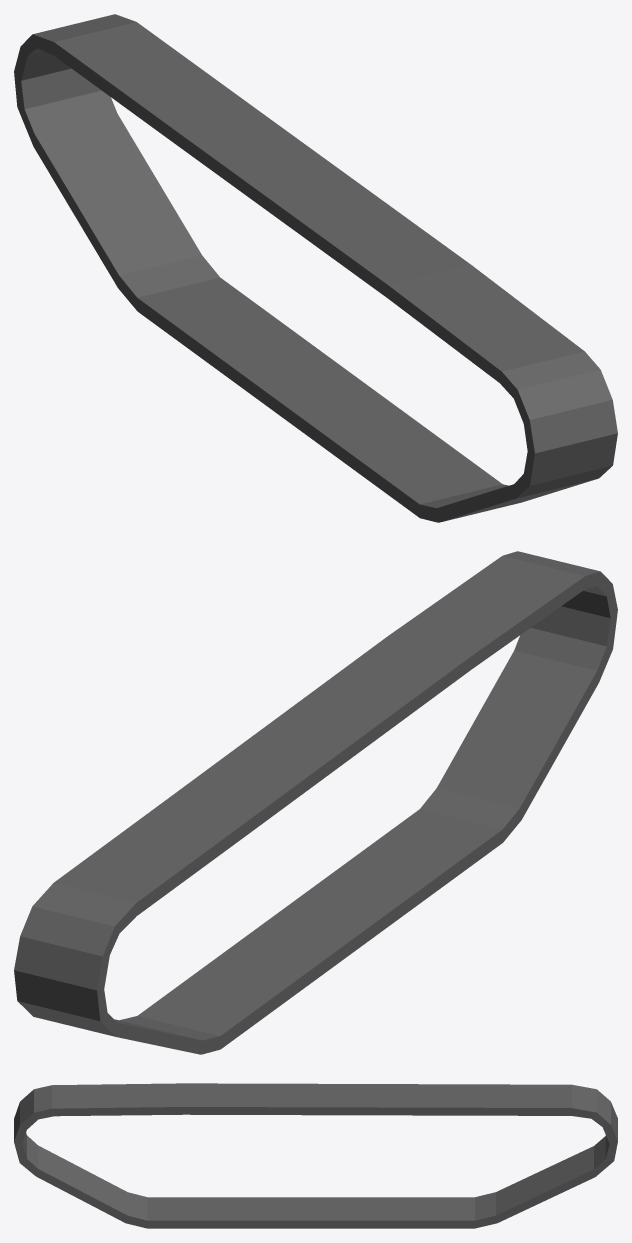
File: tankTrack.fbx
3 views of the same model, one above another, from view 1: azimuth 30°, elevation 25°; view 2: azimuth 150°, elevation 25°; view 3: azimuth 270°, elevation 25° (orthographic). The views are drawn at different scales.
Parts seen in each view (by area): view 1: Cube.001; view 2: Cube.001; view 3: Cube.001.
Part boxes in pixels (box(x1,y1,x2,y2)): Cube.001: box(14, 14, 617, 522); Cube.001: box(14, 551, 617, 1054); Cube.001: box(14, 1083, 617, 1228).
Size of the model in its own units: 1.32 by 3.18 by 14.31.
